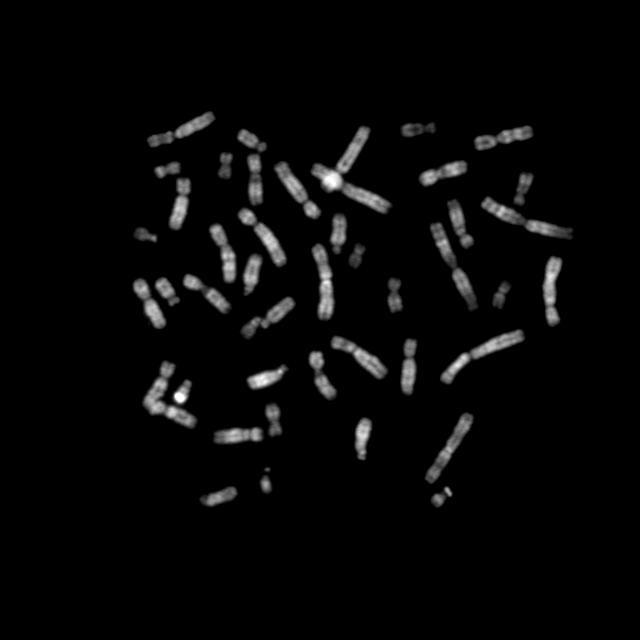chromosome: (440, 330, 526, 384), (310, 163, 392, 214), (430, 223, 478, 309), (481, 196, 574, 240), (426, 413, 474, 483), (321, 126, 371, 192), (238, 208, 286, 266), (276, 162, 320, 218), (330, 336, 388, 378), (149, 111, 216, 147), (139, 388, 196, 428), (182, 274, 230, 314), (311, 244, 335, 320), (132, 278, 165, 328), (209, 222, 236, 282), (309, 350, 337, 400), (543, 257, 563, 327), (475, 126, 533, 150), (448, 198, 474, 250), (418, 161, 468, 187), (260, 297, 296, 329), (168, 178, 190, 230), (247, 365, 288, 389), (246, 153, 264, 205), (401, 338, 417, 394), (213, 427, 262, 445), (243, 253, 263, 295), (200, 486, 238, 506), (354, 418, 372, 460), (155, 277, 179, 307), (153, 361, 175, 391), (513, 172, 533, 205), (331, 214, 347, 254), (238, 129, 266, 151), (387, 278, 403, 312), (266, 403, 282, 435), (492, 282, 510, 310), (430, 486, 452, 508), (402, 122, 436, 136), (240, 317, 262, 338), (173, 380, 192, 404), (155, 162, 181, 178), (348, 245, 366, 268), (134, 227, 156, 243), (218, 154, 232, 178), (260, 474, 272, 494)
